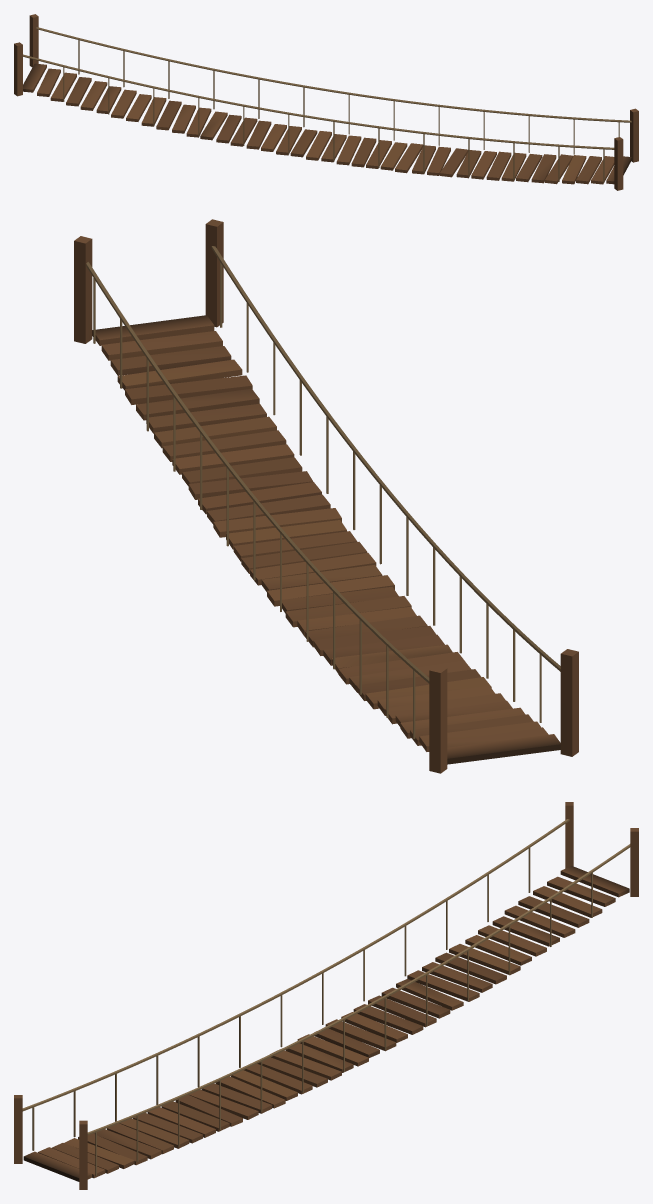
File: Bridge.glb
The picture shows the model from 3 angles, top to bottom: view 1: azimuth 30°, elevation 25°; view 2: azimuth 150°, elevation 25°; view 3: azimuth 270°, elevation 25°; orthographic projection. The views are drawn at different scales.
Parts seen in each view (by area): view 1: Planks, Ropes; view 2: Planks, Ropes; view 3: Planks, Ropes.
Boxes of the visible parts, bbox=[...] form: Planks: bbox=[14, 14, 638, 190]; Ropes: bbox=[23, 27, 631, 182]; Planks: bbox=[74, 219, 578, 773]; Ropes: bbox=[86, 246, 560, 738]; Planks: bbox=[14, 802, 638, 1189]; Ropes: bbox=[22, 819, 630, 1175].
Bounding box in the file's own units: 38.06 × 7.65 × 36.29.
